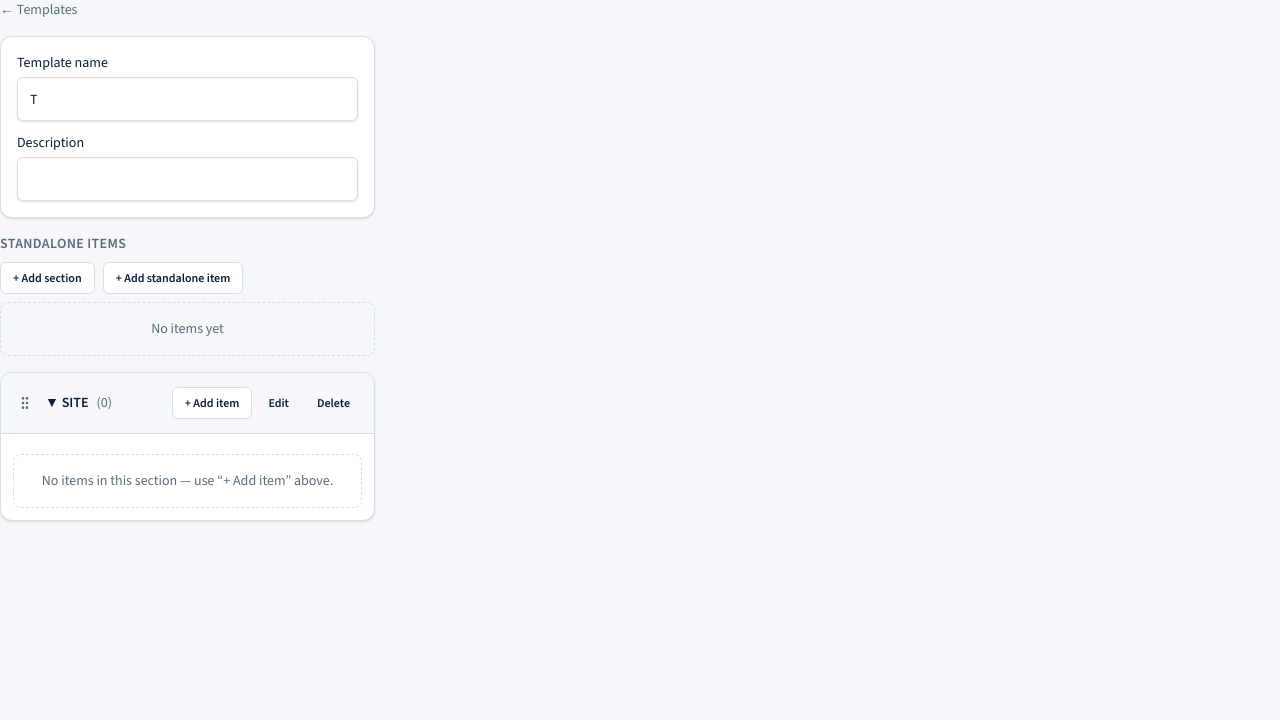
Test: optimistic UI rollback › rolls back a failed item save and shows an error
Click the button "+ Add item": click(212, 403) [172, 387, 252, 419]
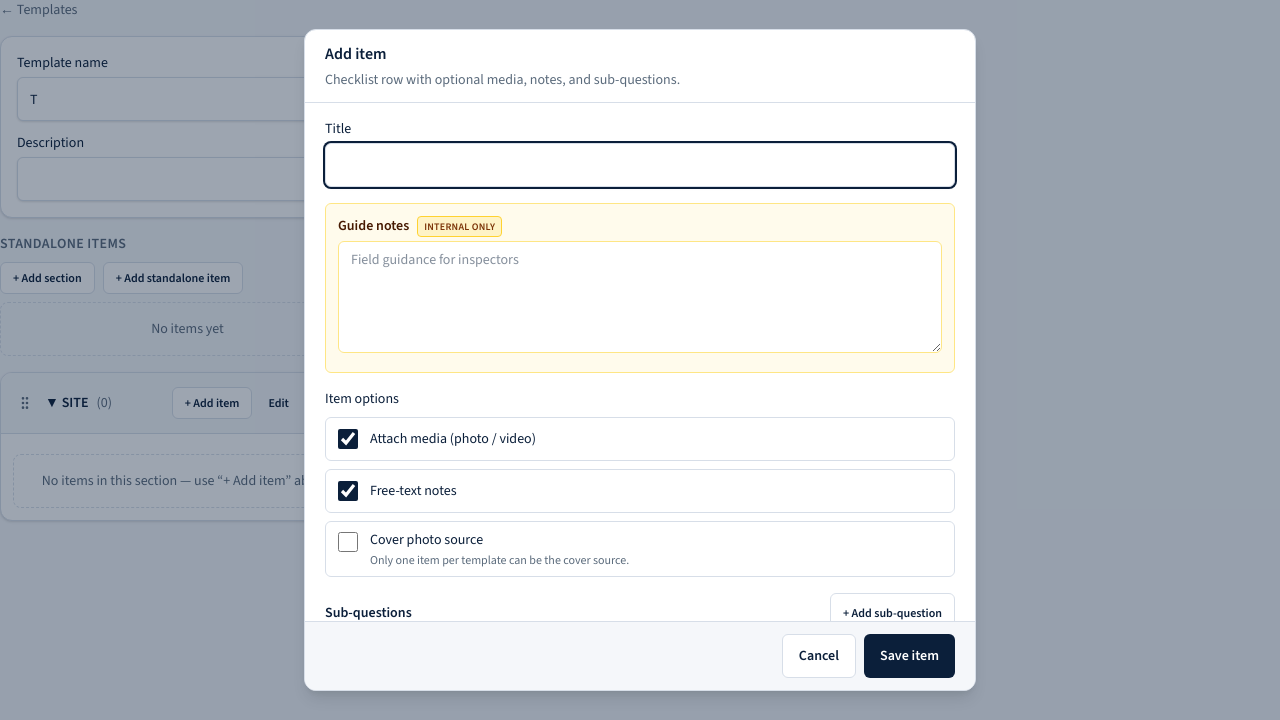
Now the dialog is shown, box [304, 29, 976, 691]
In the field labelled "Title": (640, 165) [325, 143, 955, 187], type "Phantom"
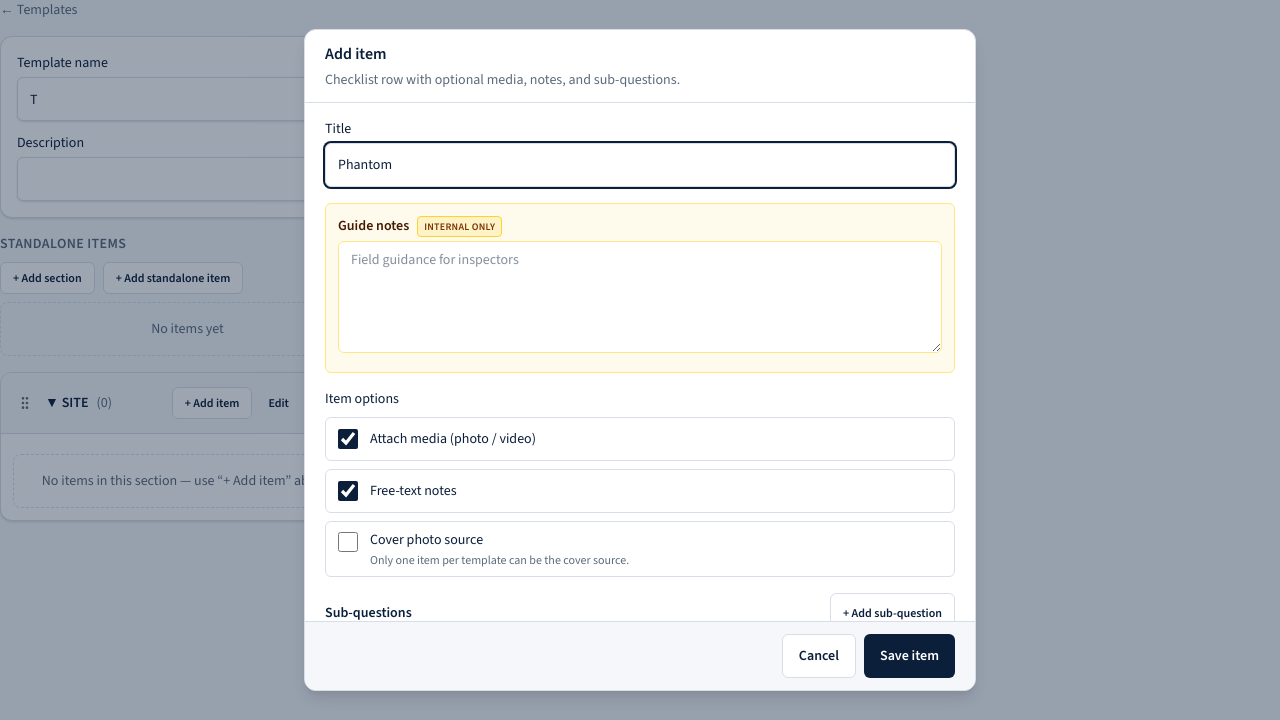
Click the button "Save item": click(910, 656) [864, 634, 955, 678]
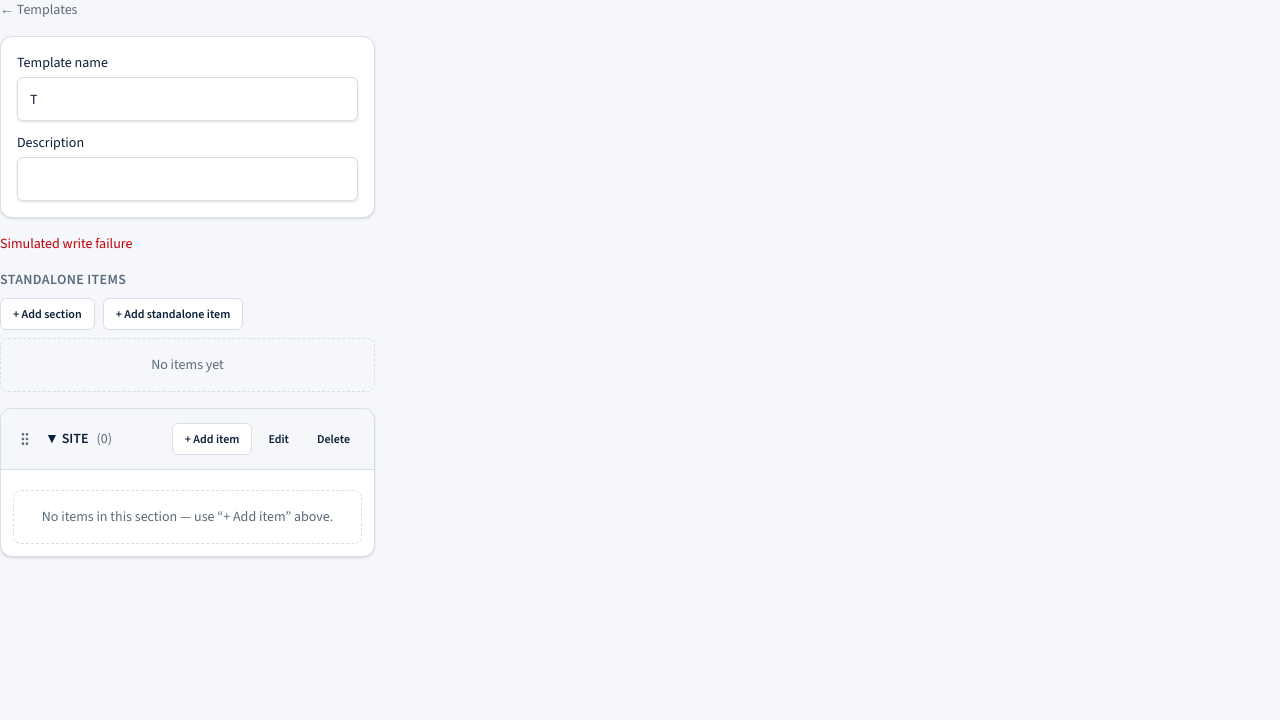
Expected: the text "Phantom" is not shown
Now the text "Simulated write failure" is shown, box [0, 234, 132, 253]
